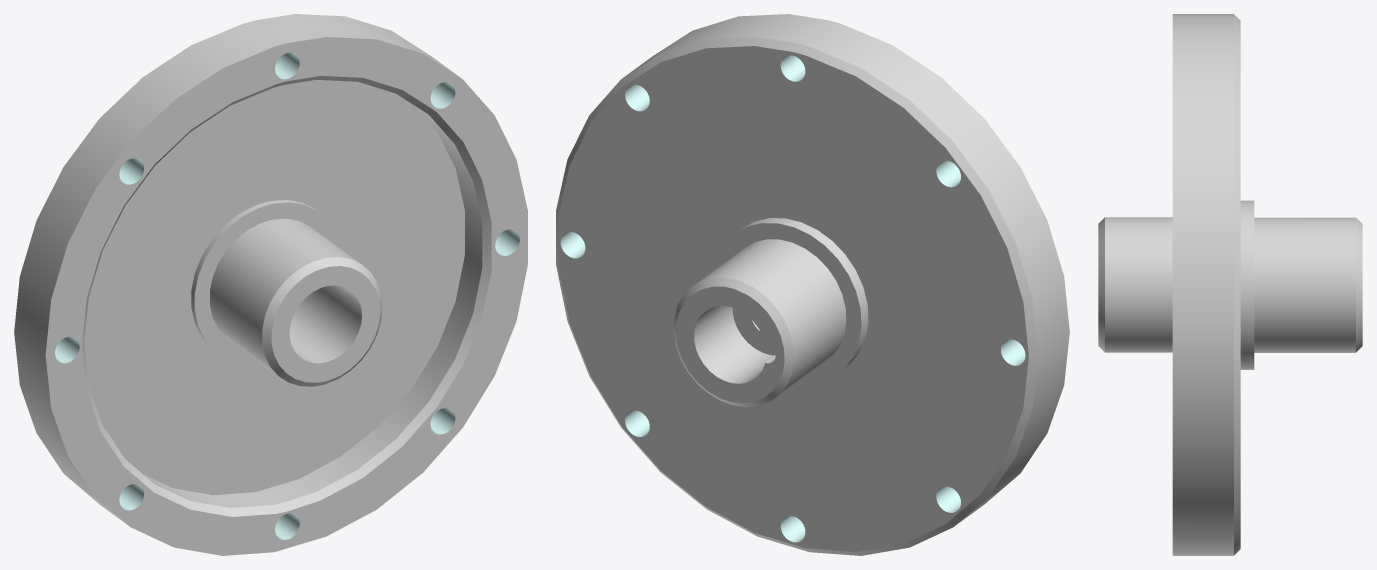
3 views of the same model, side by side, from view 1: azimuth 30°, elevation 25°; view 2: azimuth 150°, elevation 25°; view 3: azimuth 270°, elevation 25° (orthographic). The views are drawn at different scales.
Parts seen in each view (by area): view 1: mesh803, mesh796, mesh786, mesh798, mesh806, mesh797, mesh808, mesh805, mesh809, mesh807, mesh804; view 2: mesh787, mesh786, mesh785, mesh801, mesh812, mesh800, mesh814, mesh802, mesh799, mesh815; view 3: mesh786, mesh801, mesh806, mesh785, mesh799, mesh807, mesh802.
Part boxes in pixels (left/top/right/bottom): mesh803: left=84, top=80, right=464, bottom=495; mesh796: left=45, top=37, right=527, bottom=555; mesh786: left=14, top=14, right=460, bottom=525; mesh798: left=144, top=106, right=482, bottom=507; mesh806: left=210, top=218, right=360, bottom=375; mesh797: left=82, top=76, right=491, bottom=516; mesh808: left=271, top=266, right=380, bottom=382; mesh805: left=194, top=202, right=343, bottom=364; mesh809: left=289, top=285, right=361, bottom=363; mesh807: left=262, top=257, right=382, bottom=386; mesh804: left=191, top=200, right=317, bottom=350; mesh787: left=558, top=46, right=1028, bottom=551; mesh786: left=623, top=14, right=1069, bottom=525; mesh785: left=556, top=37, right=1038, bottom=555; mesh801: left=694, top=239, right=846, bottom=394; mesh812: left=676, top=286, right=784, bottom=403; mesh800: left=712, top=223, right=861, bottom=385; mesh814: left=694, top=306, right=774, bottom=383; mesh802: left=673, top=277, right=793, bottom=407; mesh799: left=736, top=218, right=868, bottom=372; mesh815: left=732, top=308, right=775, bottom=355; mesh786: left=1172, top=14, right=1233, bottom=555; mesh801: left=1254, top=217, right=1355, bottom=352; mesh806: left=1105, top=217, right=1172, bottom=352; mesh785: left=1234, top=14, right=1240, bottom=555; mesh799: left=1240, top=200, right=1254, bottom=369; mesh807: left=1098, top=217, right=1104, bottom=352; mesh802: left=1356, top=218, right=1362, bottom=352.
Bounding box in the file's own units: 0.0399 × 0.04 × 0.0195.
